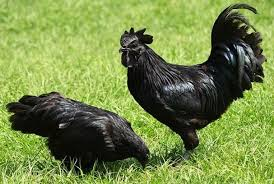Gà/Chicken: (106, 1, 274, 133), (1, 89, 160, 184)
